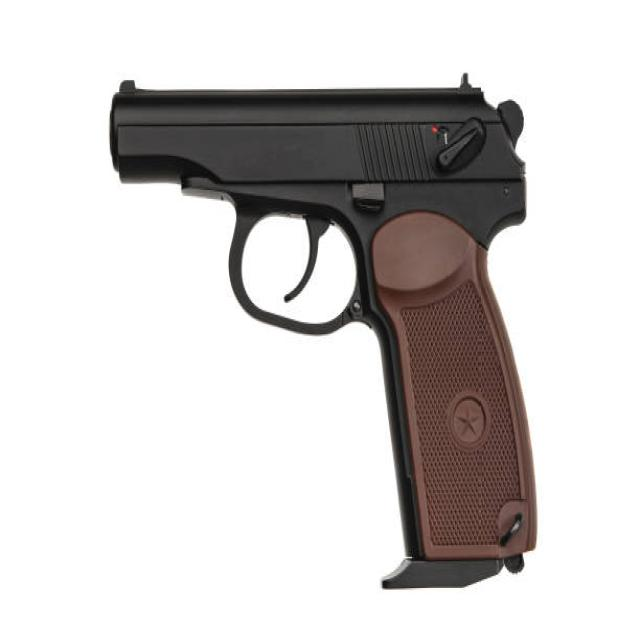pistol: (101, 70, 547, 602)
